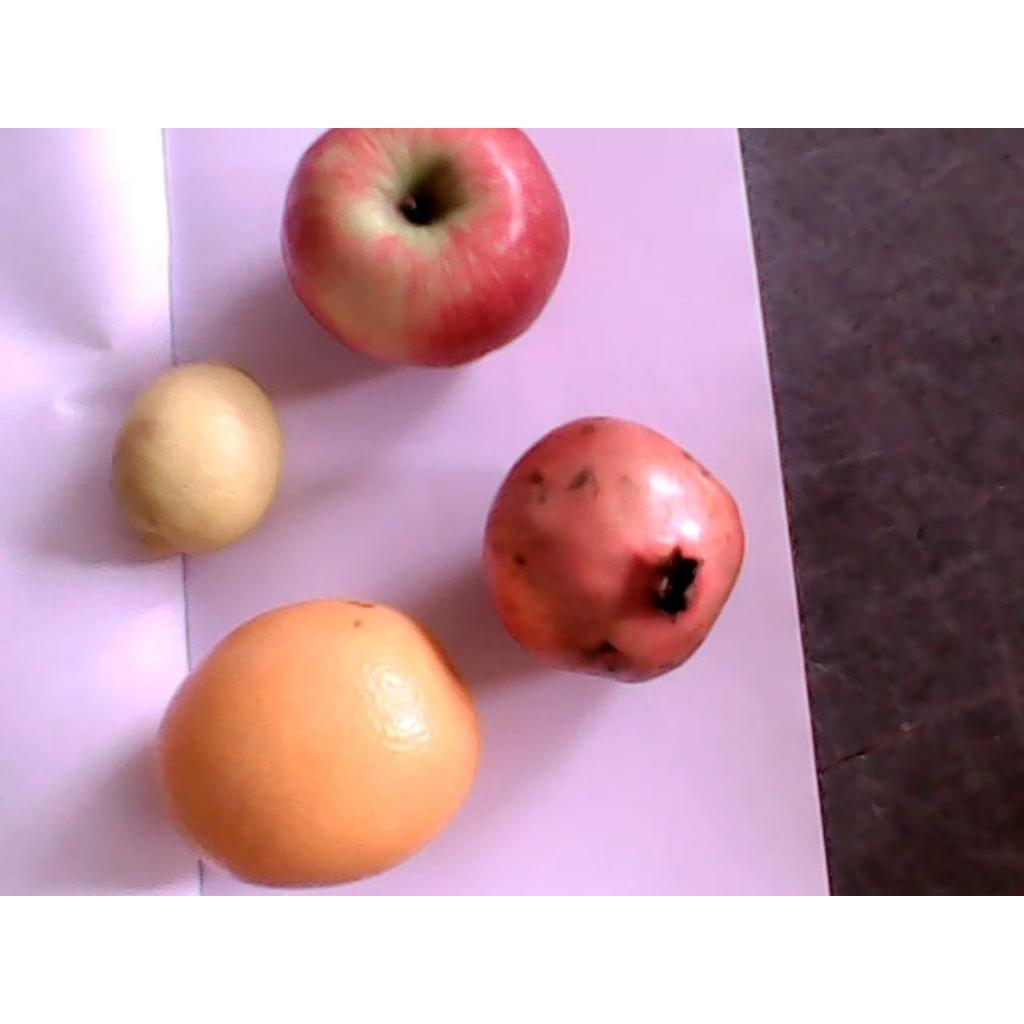apple: (281, 128, 570, 370)
lemon: (105, 361, 285, 556)
orange: (153, 594, 483, 888)
pomegranate: (479, 418, 747, 681)
